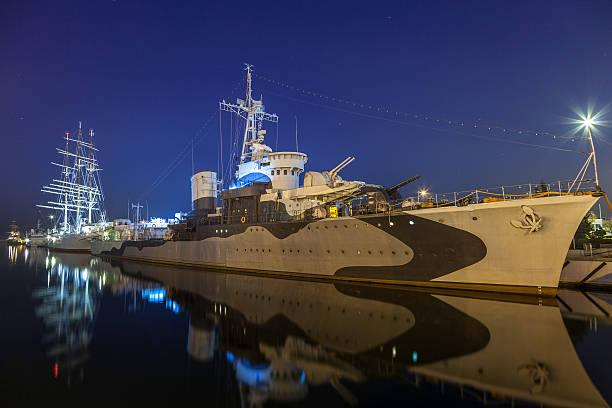MIL_Ship: (87, 125, 602, 298)
